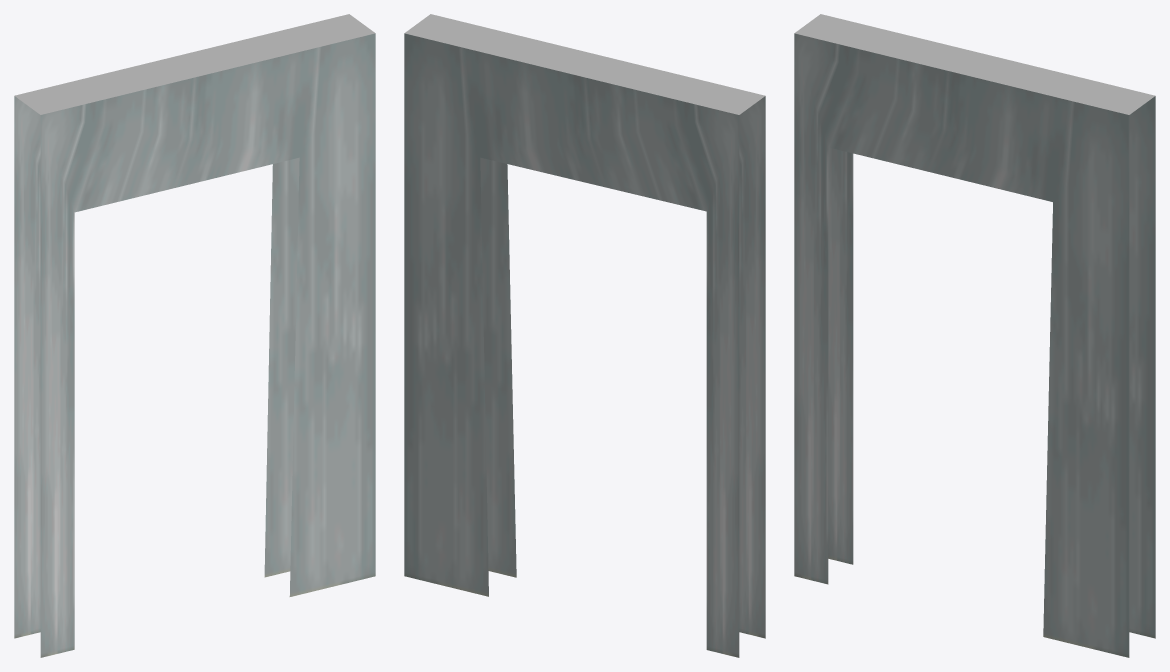
Rendered from W_I2_o [Türkis2]_1307.glb.
3 views of the same model, side by side, from view 1: azimuth 30°, elevation 25°; view 2: azimuth 150°, elevation 25°; view 3: azimuth 330°, elevation 25° (orthographic).
Parts seen in each view (by area): view 1: pPlaneShape2, pPlaneShape3, pPlaneShape1; view 2: pPlaneShape3, pPlaneShape2, pPlaneShape1; view 3: pPlaneShape2, pPlaneShape3, pPlaneShape1.
Boxes of the visible parts, x1,y1,x2,y2 form: pPlaneShape2: (40, 33, 375, 657); pPlaneShape3: (14, 96, 299, 638); pPlaneShape1: (14, 14, 375, 114); pPlaneShape3: (404, 33, 739, 657); pPlaneShape2: (480, 96, 765, 638); pPlaneShape1: (405, 14, 765, 114); pPlaneShape2: (794, 33, 1129, 657); pPlaneShape3: (828, 96, 1155, 638); pPlaneShape1: (795, 14, 1155, 114).
Bounding box in the file's own units: 0.2252 × 0.3486 × 0.0308.
Materials: 3 (2 with a texture image).
